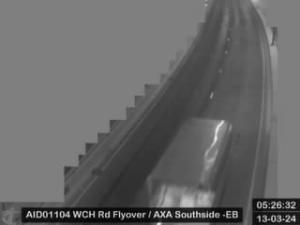bus: (150, 118, 234, 224)
